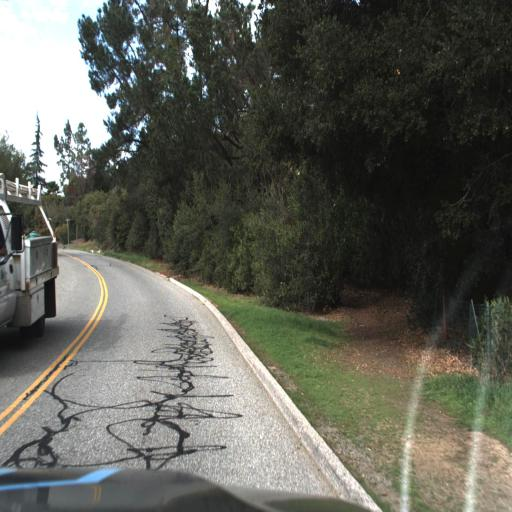truck: (0, 172, 59, 351)
